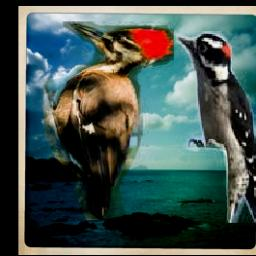Woodpecker: (39, 21, 174, 220), (177, 32, 256, 224)
